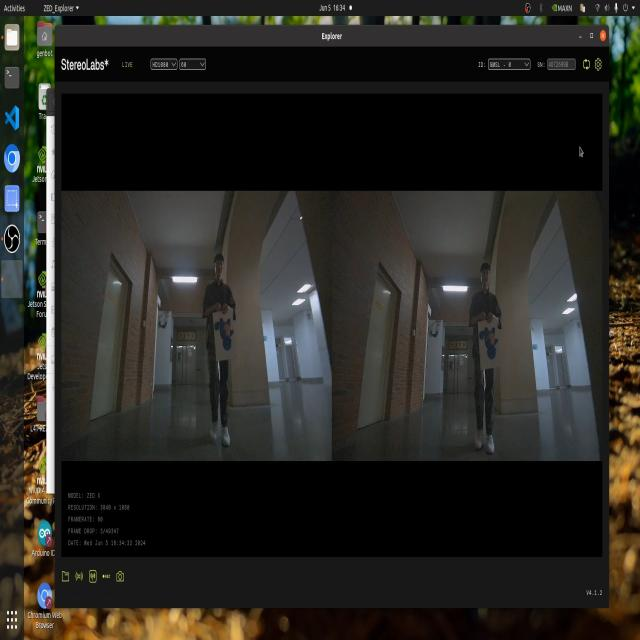blue: (214, 310, 238, 354), (476, 324, 501, 366)
